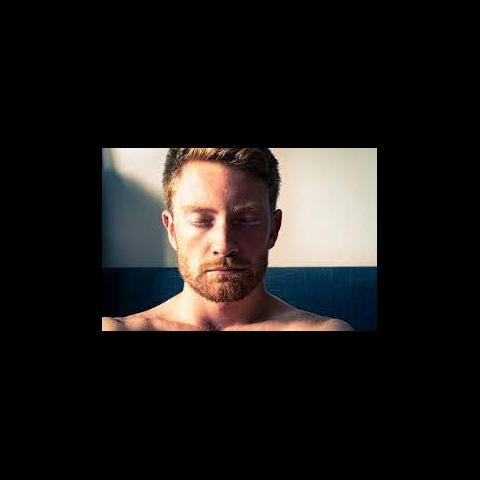closed: (178, 202, 270, 232)
